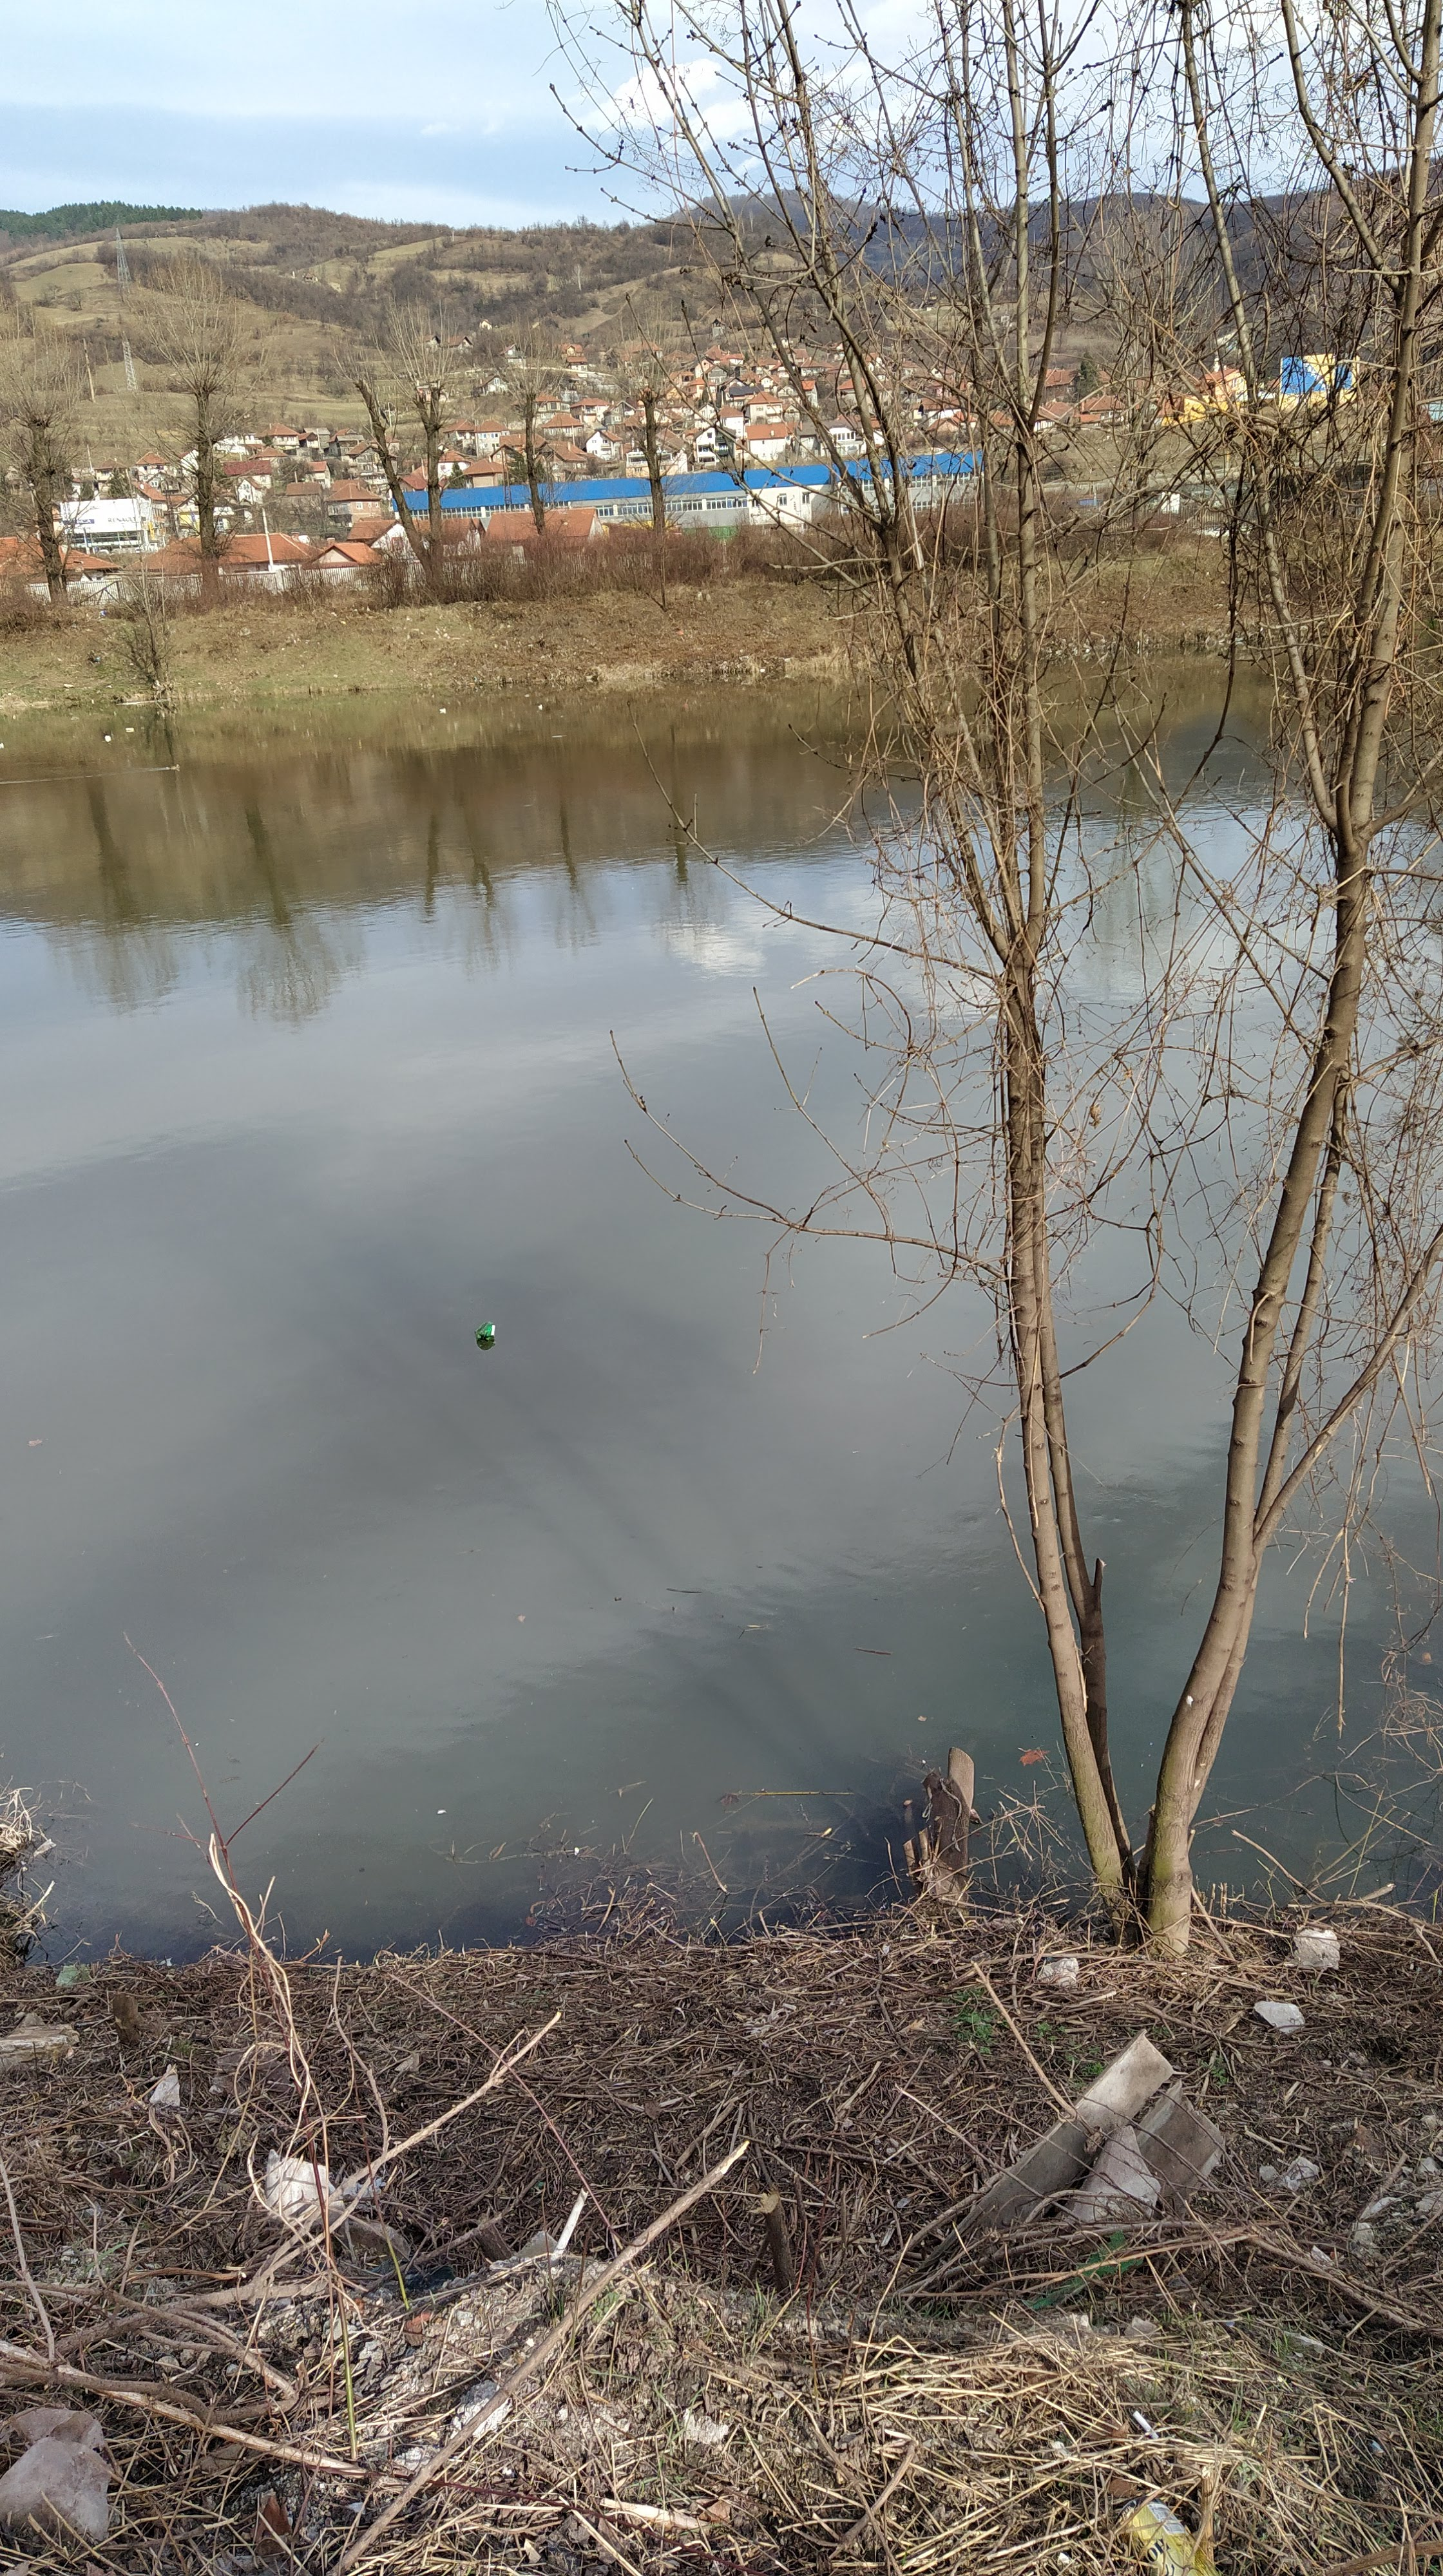Plastic Bottle: (475, 1322, 496, 1341), (104, 734, 112, 741), (126, 727, 133, 732)
